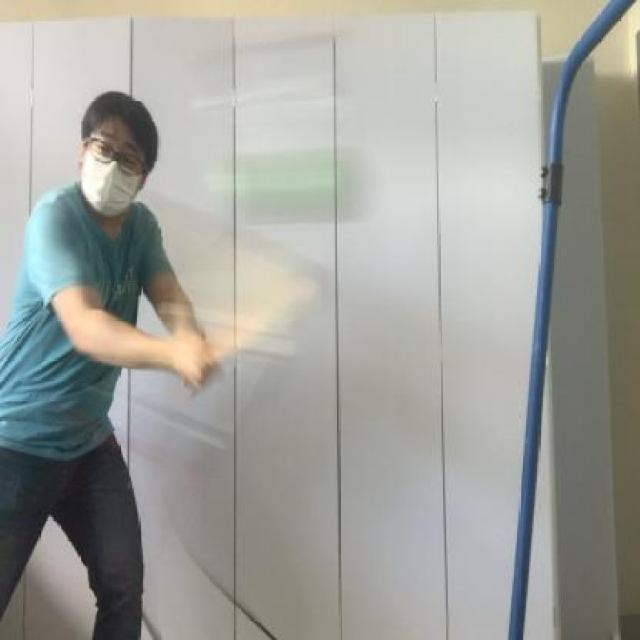baseball: (208, 127, 378, 239)
